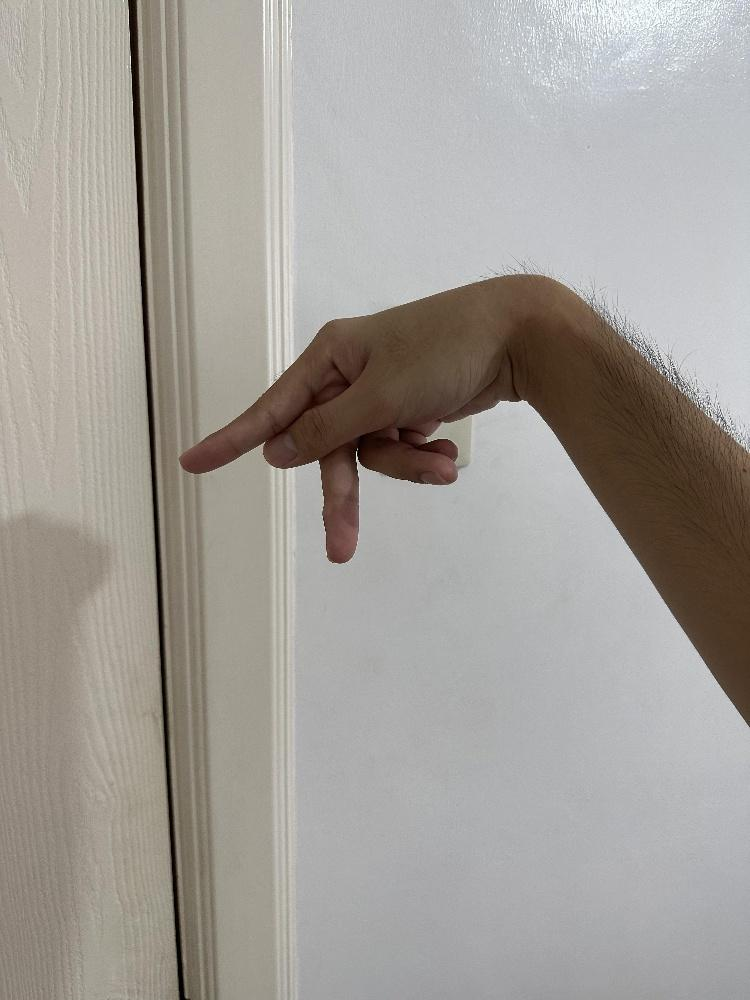p: (175, 270, 537, 564)
